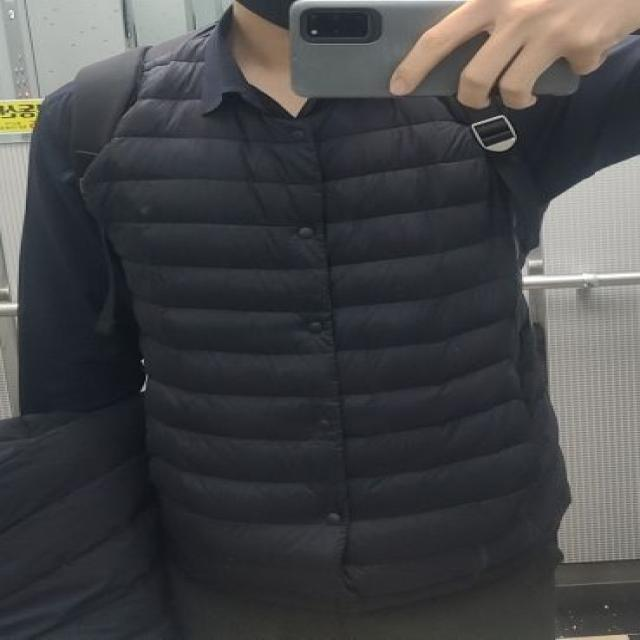padding: (72, 24, 576, 607)
